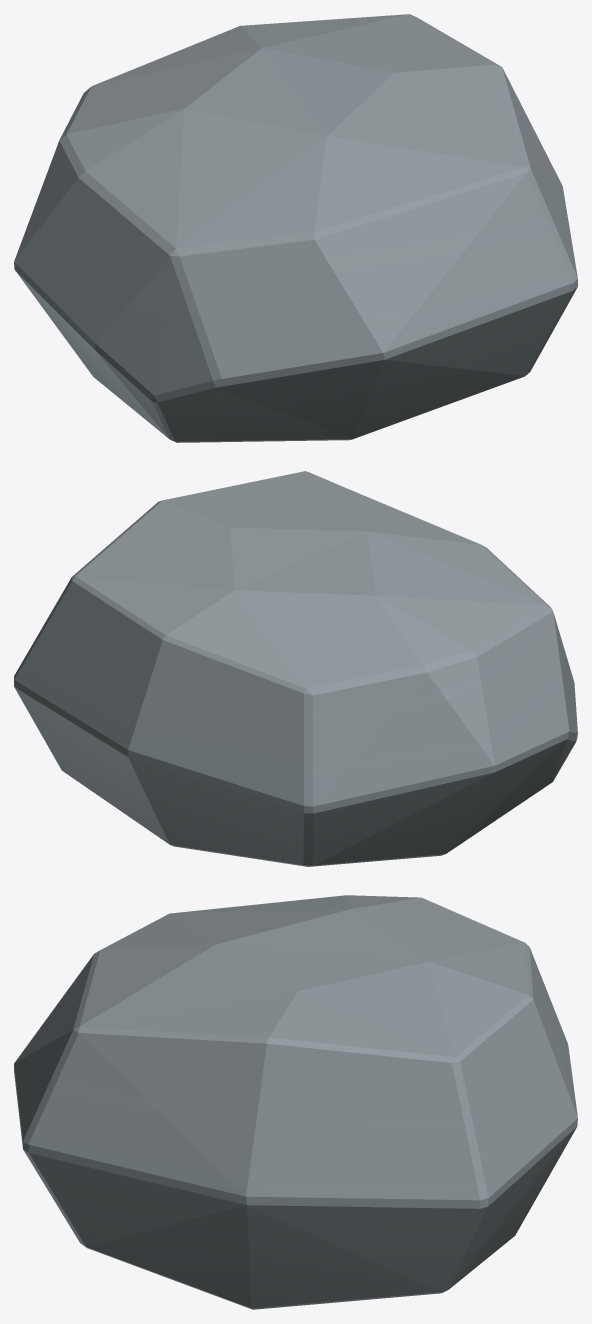
Rendered from rock_pebble.glb.
The picture shows the model from 3 angles, top to bottom: view 1: azimuth 30°, elevation 25°; view 2: azimuth 150°, elevation 25°; view 3: azimuth 270°, elevation 25°; orthographic projection. The views are drawn at different scales.
Parts seen in each view (by area): view 1: Stone_6_1_A; view 2: Stone_6_1_A; view 3: Stone_6_1_A.
Part boxes in pixels (x1,y1,x2,y2): Stone_6_1_A: (14,14,577,442); Stone_6_1_A: (14,471,577,866); Stone_6_1_A: (14,895,577,1309).
Bounding box in the file's own units: 0.776 × 0.45 × 0.767.
Materials: 1 (1 with a texture image).
